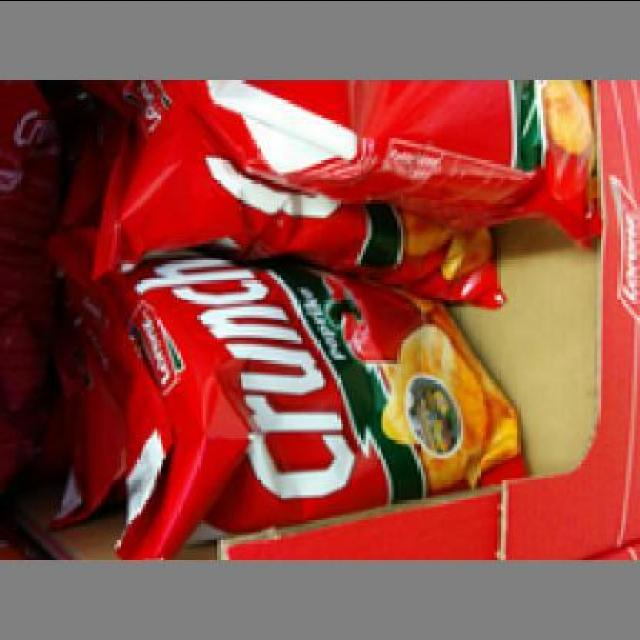Chips: (113, 254, 530, 560)
